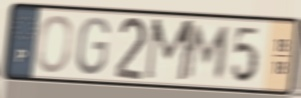2: (114, 16, 148, 82)
5: (229, 25, 264, 84)
G: (74, 15, 112, 77)
M: (142, 16, 198, 84), (183, 22, 234, 81)
O: (34, 13, 75, 75)
